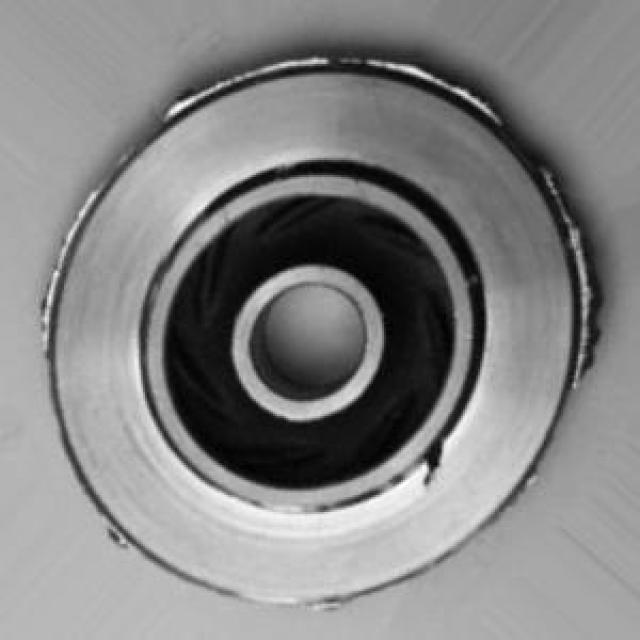Defect: (320, 39, 445, 84), (545, 185, 583, 255)
